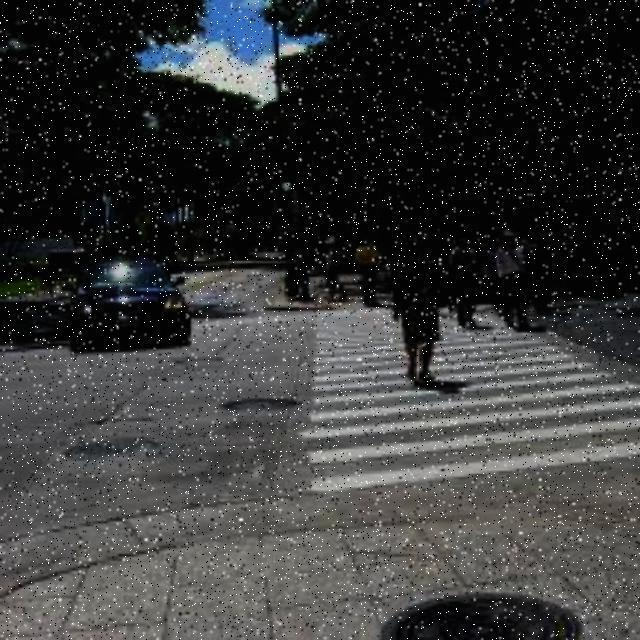Pedestrian crosswalk: (294, 288, 628, 508)
